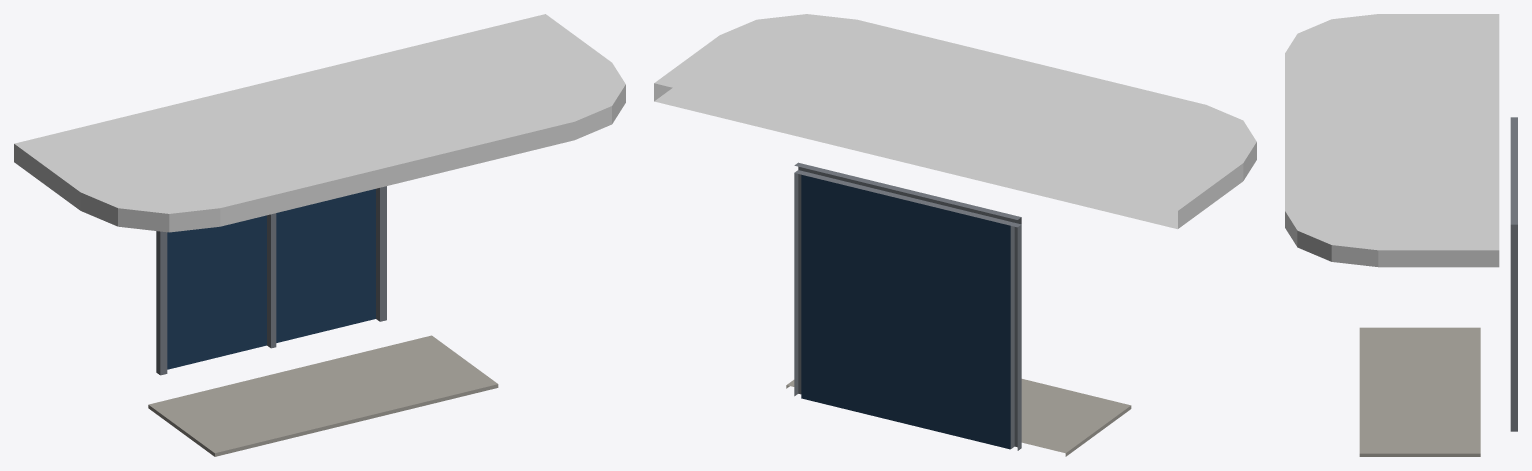
The model's file is entrance.fbx.
The picture shows the model from 3 angles, left to right: view 1: azimuth 30°, elevation 25°; view 2: azimuth 150°, elevation 25°; view 3: azimuth 270°, elevation 25°; orthographic projection. The views are drawn at different scales.
Parts seen in each view (by area): view 1: a2012/800/entrance; view 2: a2012/800/entrance; view 3: a2012/800/entrance.
Part boxes in pixels (x1,y1,x2,y2): a2012/800/entrance: [14, 14, 625, 456]; a2012/800/entrance: [654, 14, 1256, 456]; a2012/800/entrance: [1285, 14, 1517, 456].
Size of the model in its own units: 6 by 3.1 by 2.5.
